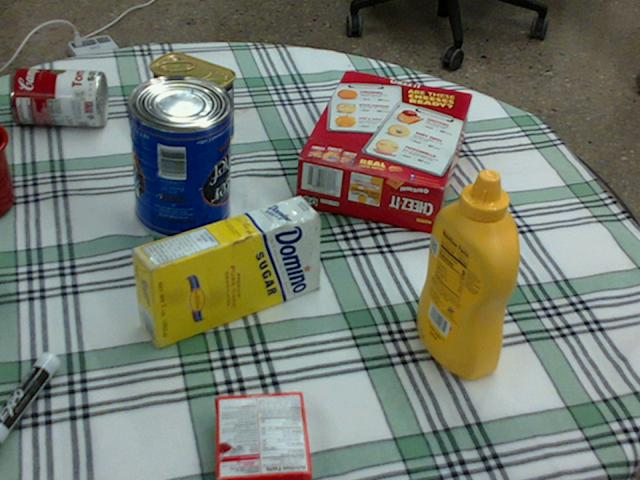cracker_box: (296, 71, 471, 233)
gelatin_box: (213, 392, 309, 479)
large_marker: (0, 351, 58, 440)
master_chef_can: (124, 75, 229, 241)
mug: (0, 122, 14, 214)
mustard_bottle: (417, 168, 519, 377)
potted_meat_can: (149, 53, 235, 146)
sugar_box: (130, 196, 319, 347)
tomato_soup_can: (9, 67, 107, 125)
